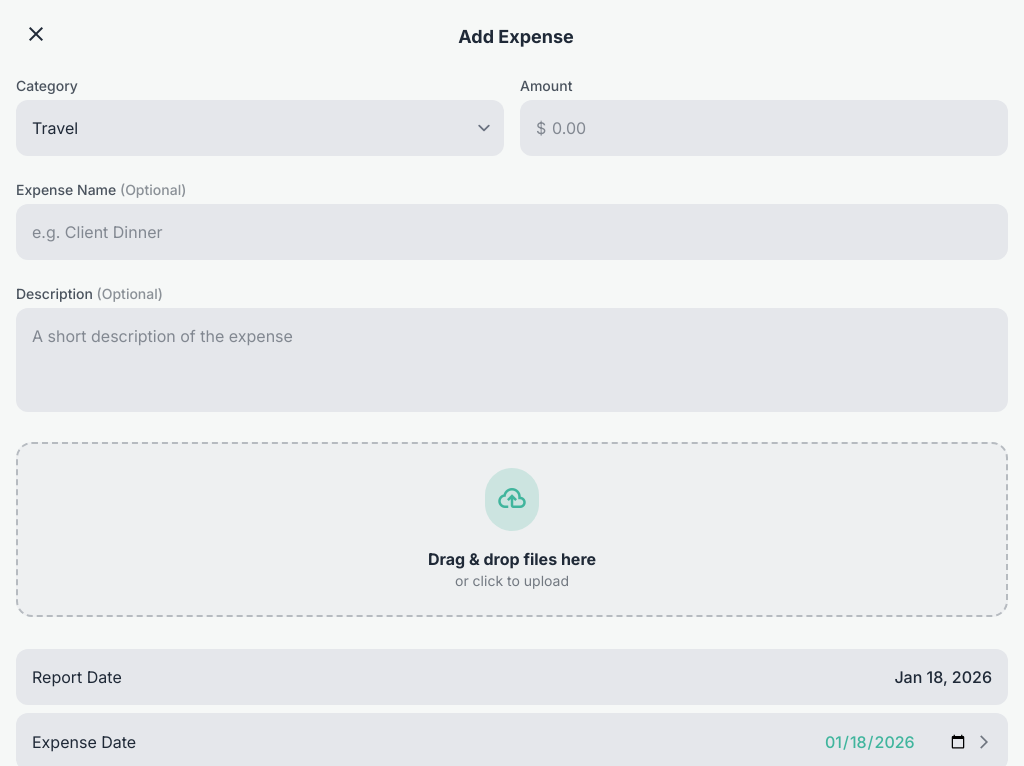
Test: AddExpensePage › Form Validation › should enable Save button when required fields are filled
Type "100.50" into the field with placeholder "0.00" at (764, 128), box [520,100,1008,156]
(page scrolled)
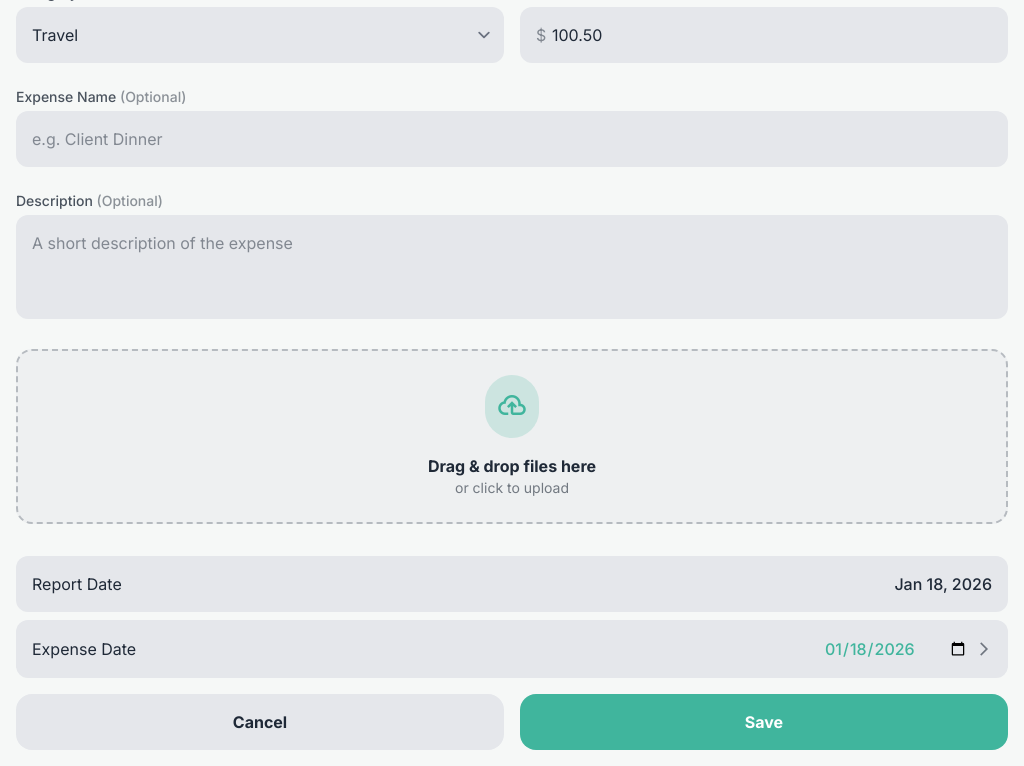
Check: the button "Save" is enabled, box [520,694,1008,750]
